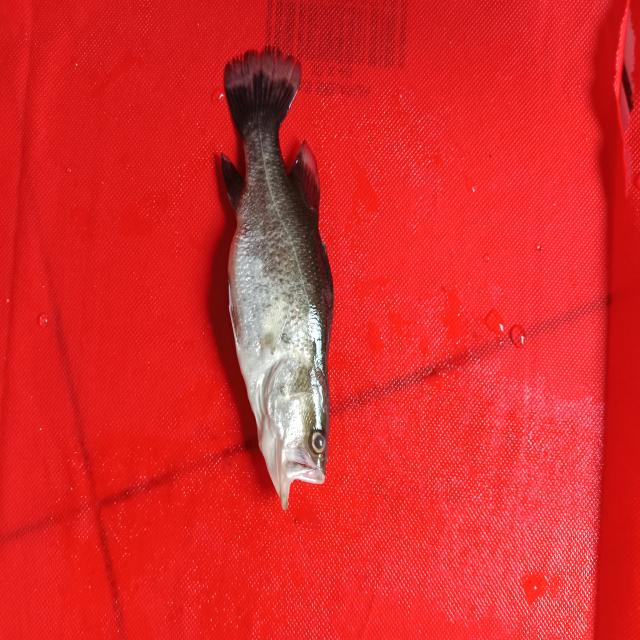ikan: (184, 64, 369, 523)
